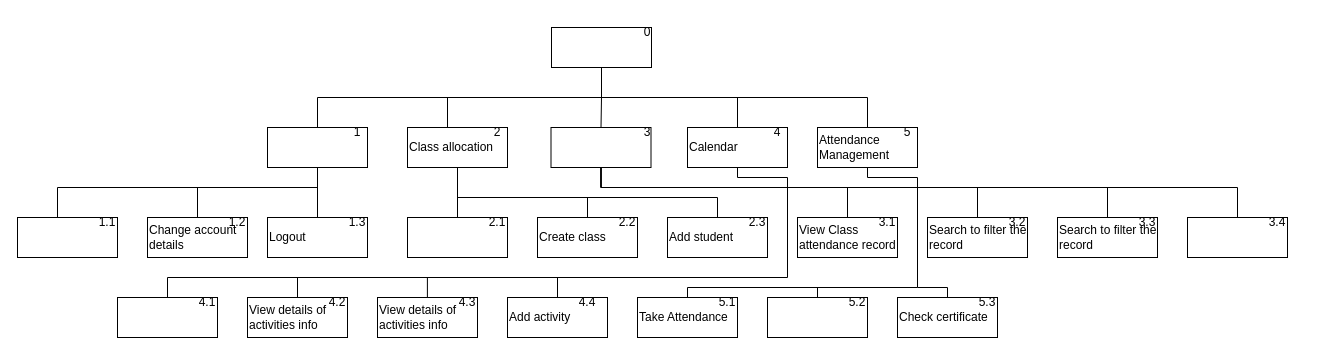
The diagram is 1325 pixels wide and 356 high, and some of its shapes have lost their labels. Here are the shapes that lost their labels. From the top down, the box of each, then its label:
(550, 26, 652, 68): Manage Attandance
(266, 126, 368, 168): Account
(550, 126, 651, 168): Attendance Record Searching
(16, 216, 118, 258): View account details
(406, 216, 508, 258): View current class details
(1186, 216, 1288, 258): Generate record for classes
(116, 296, 218, 338): View calendar with number of activities
(766, 296, 868, 338): Take all attendance at once
